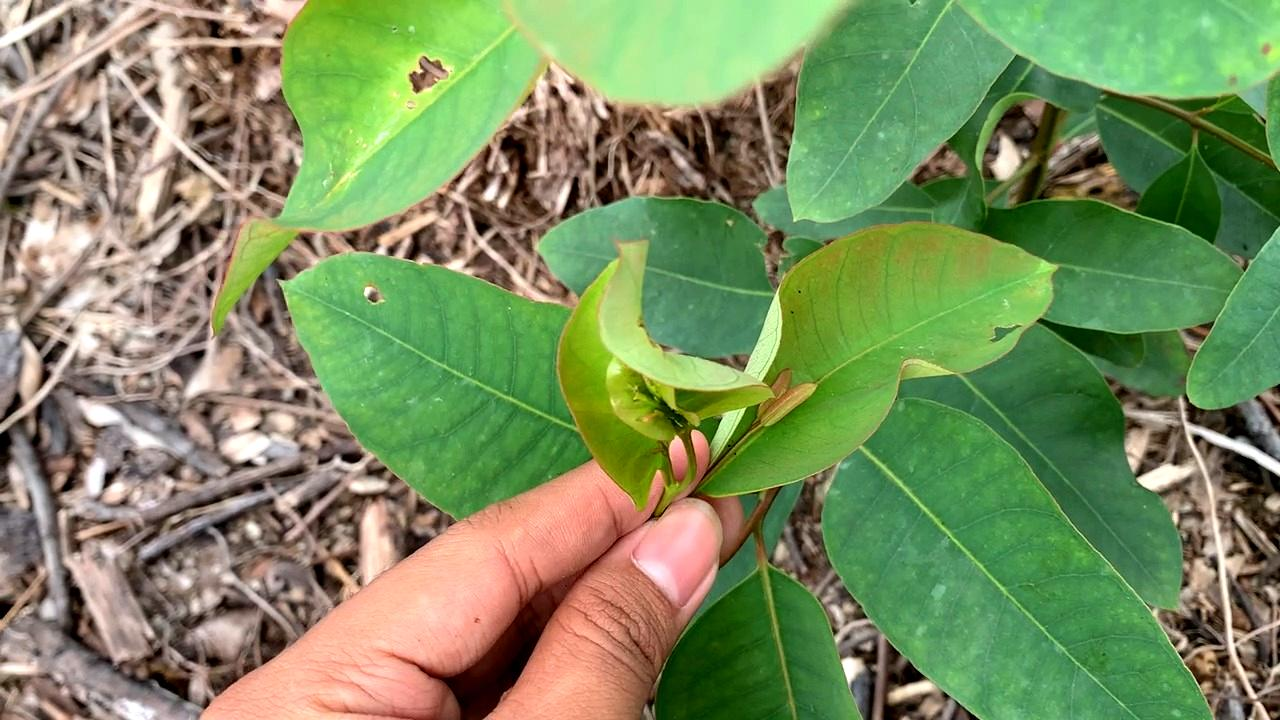Leaf Roller - Leaf: (561, 243, 779, 512)
